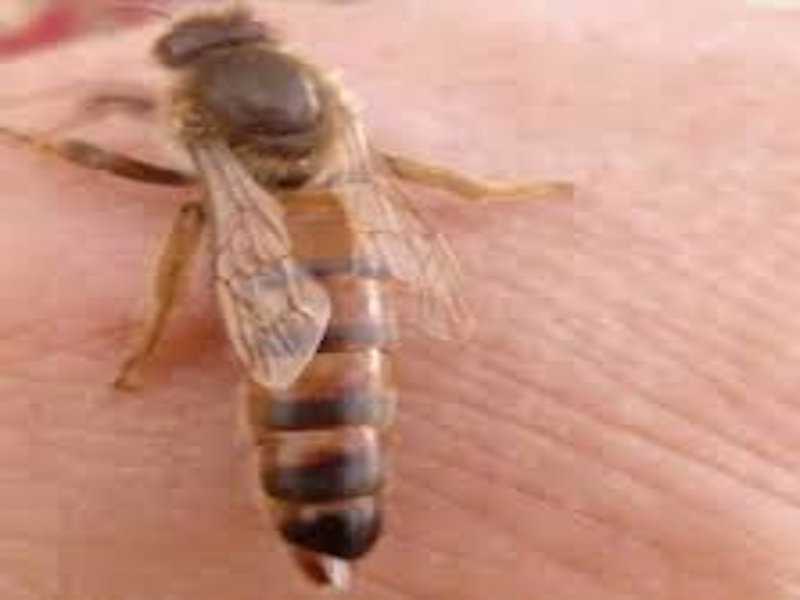abeja: (1, 4, 577, 575)
